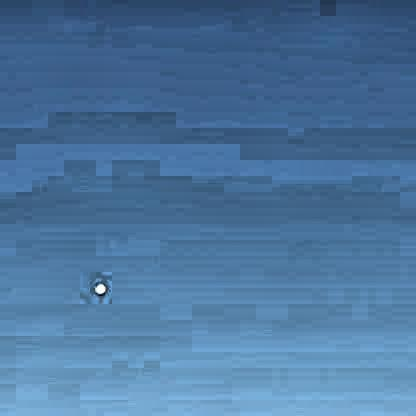golfball: (91, 278, 106, 293)
